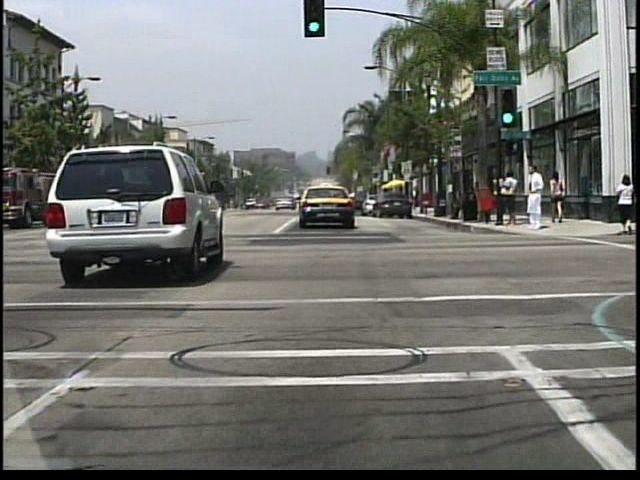person: (525, 165, 545, 231), (613, 175, 634, 237), (502, 168, 519, 231), (548, 171, 566, 226), (410, 186, 420, 213)
